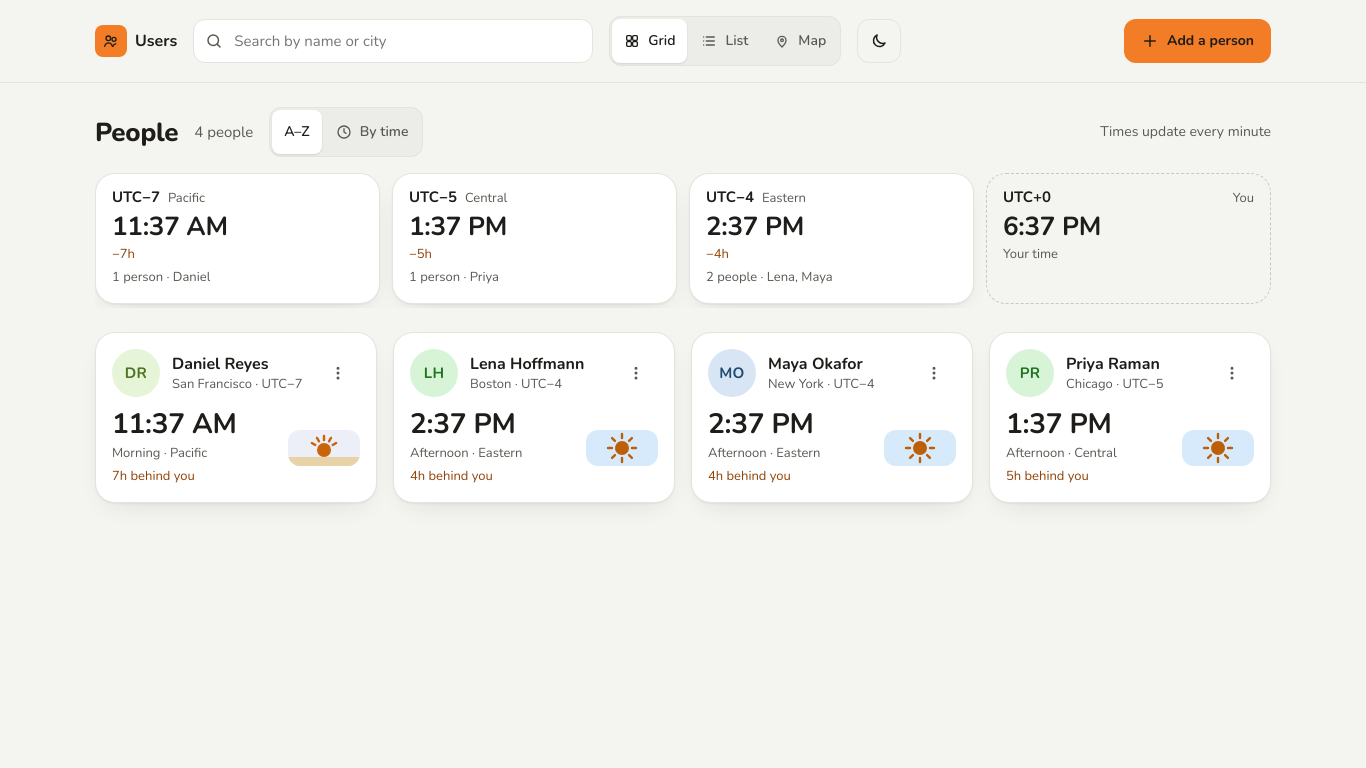
it: App › remove hides the card, undo brings it back without deleting
The image size is (1366, 768).
expect the list named "People" is shown: met, box [95, 332, 1271, 503]
Click the button named "More actions for Priya Raman": (1232, 373) [1210, 351, 1254, 395]
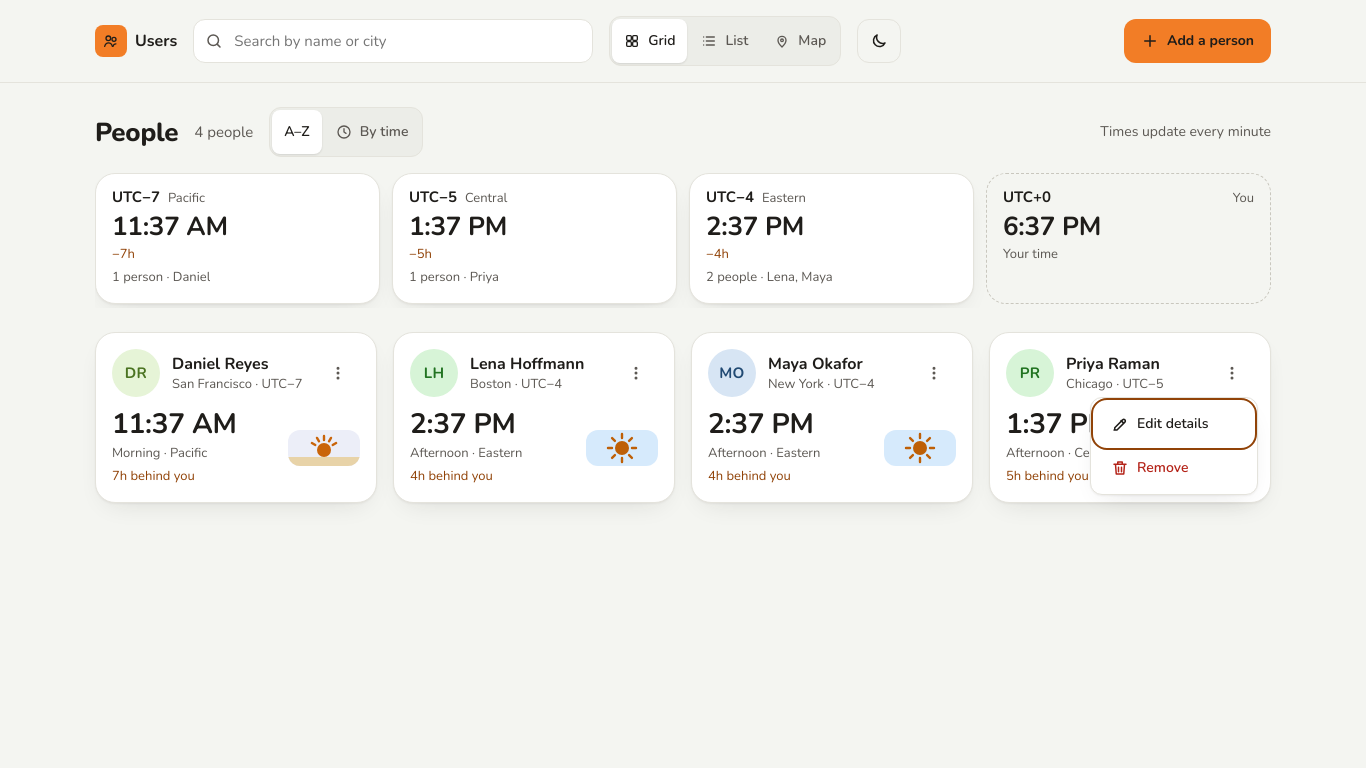
Click the menu item "Remove": (1174, 468) [1095, 446, 1253, 490]
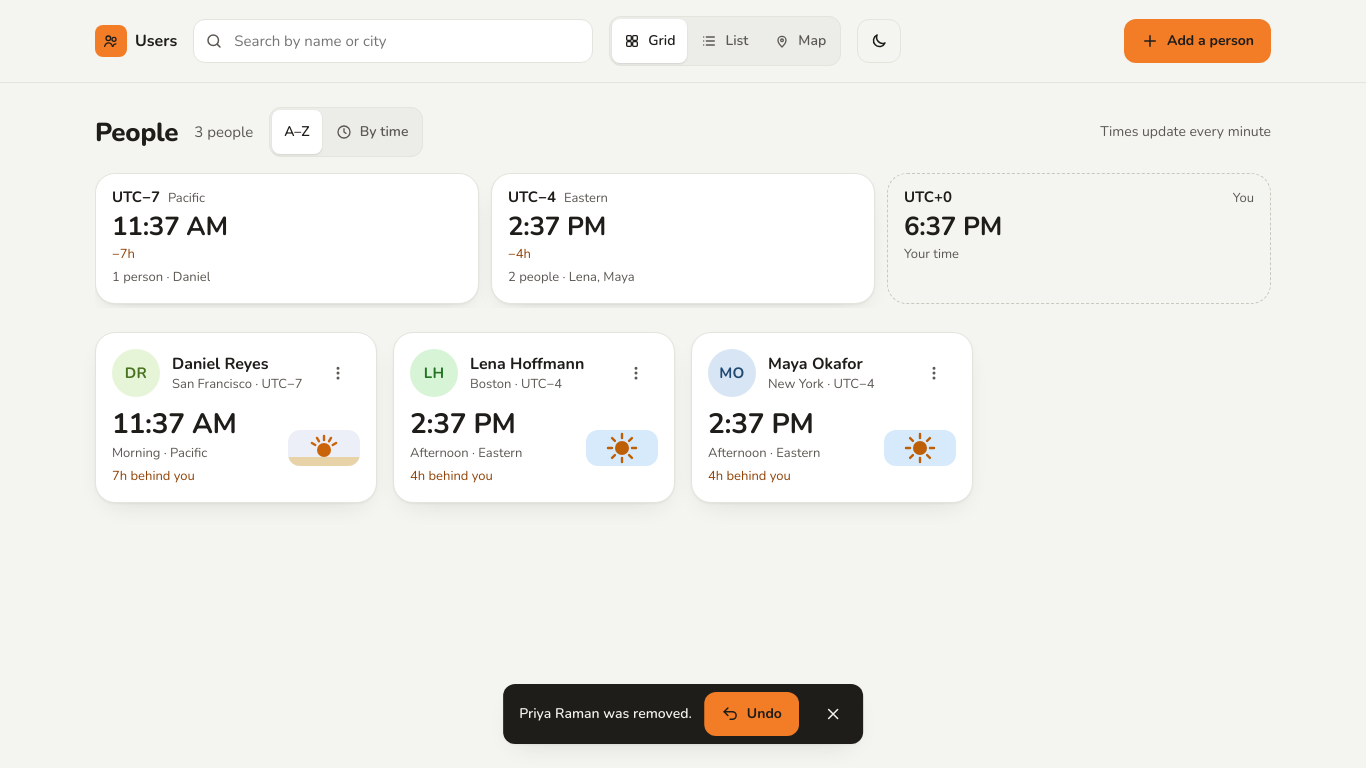
expect the message shows "Priya Raman was removed.": met, box [519, 704, 692, 723]
Click the button "Undo": (751, 714) [704, 692, 799, 736]
Wait 7100 ms
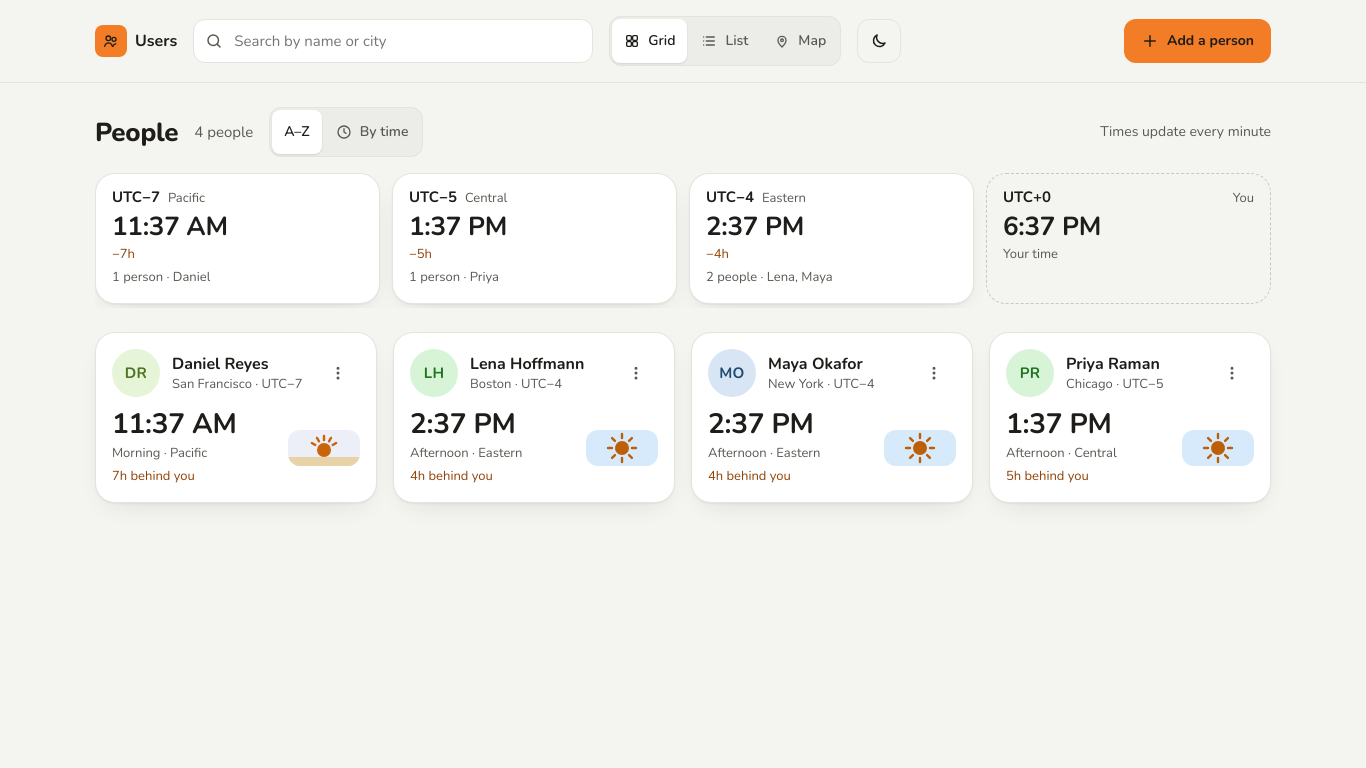
expect the button "PR Priya Raman Chicago · UTC−5" is shown: met, box [1006, 349, 1198, 397]
